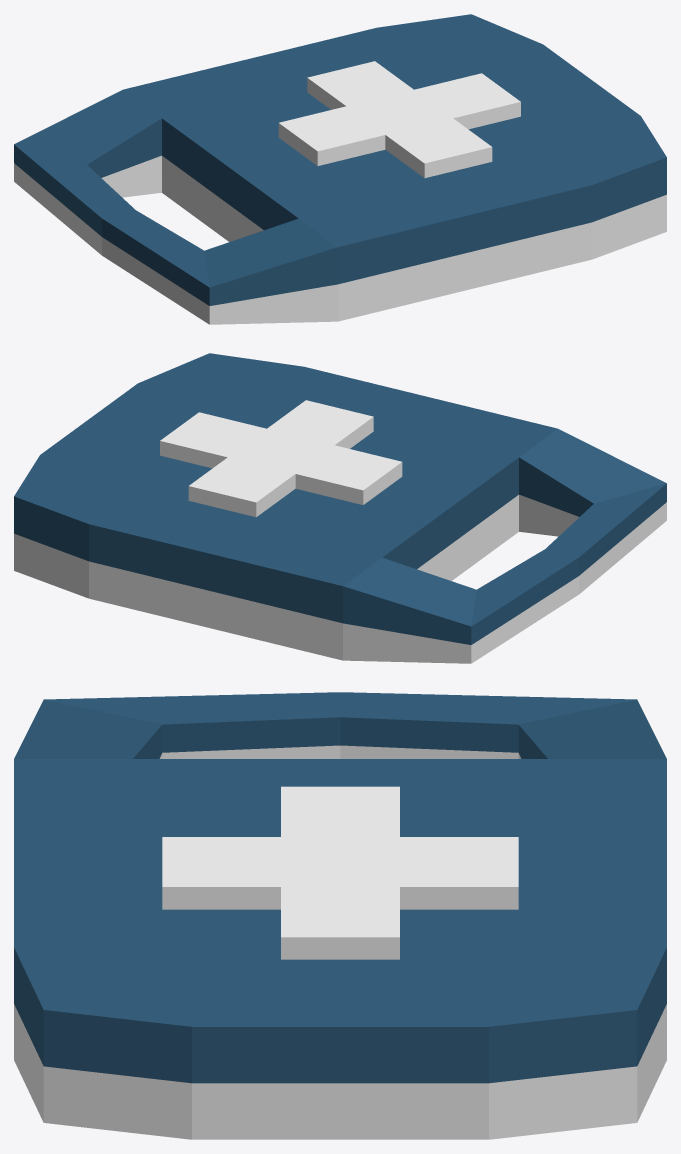
File: Medpack.glb
3 views of the same model, one above another, from view 1: azimuth 30°, elevation 25°; view 2: azimuth 150°, elevation 25°; view 3: azimuth 270°, elevation 25° (orthographic). The views are drawn at different scales.
Parts seen in each view (by area): view 1: Cube; view 2: Cube; view 3: Cube.
Boxes of the visible parts, x1,y1,x2,y2 form: Cube: (14, 14, 666, 324); Cube: (14, 353, 666, 663); Cube: (14, 692, 666, 1139).
Bounding box in the file's own units: 0.5786 × 0.1174 × 0.44.
1 material, 1 textured.
